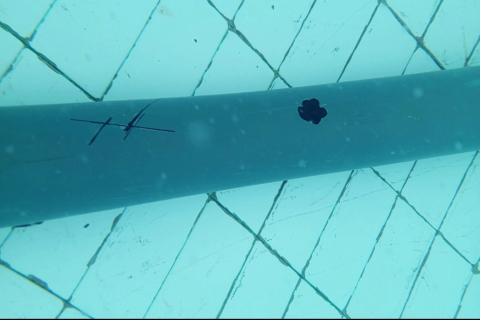kebocoran: (297, 94, 328, 126)
keretakan: (70, 103, 176, 144)
